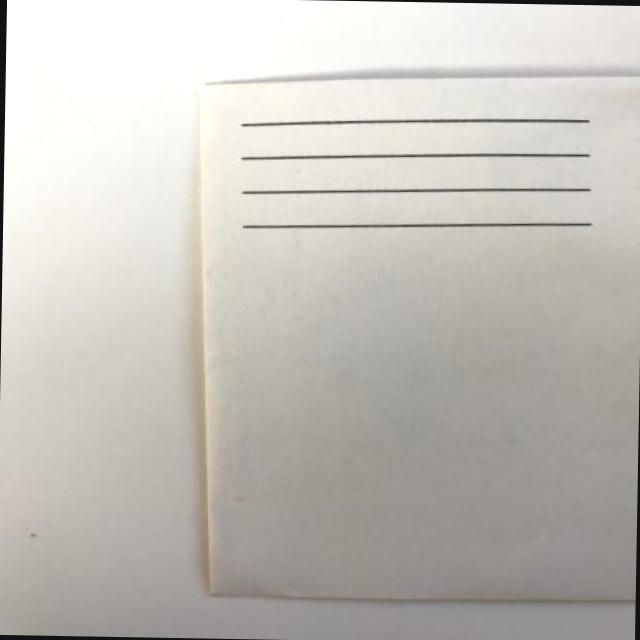paper: (174, 53, 640, 615)
